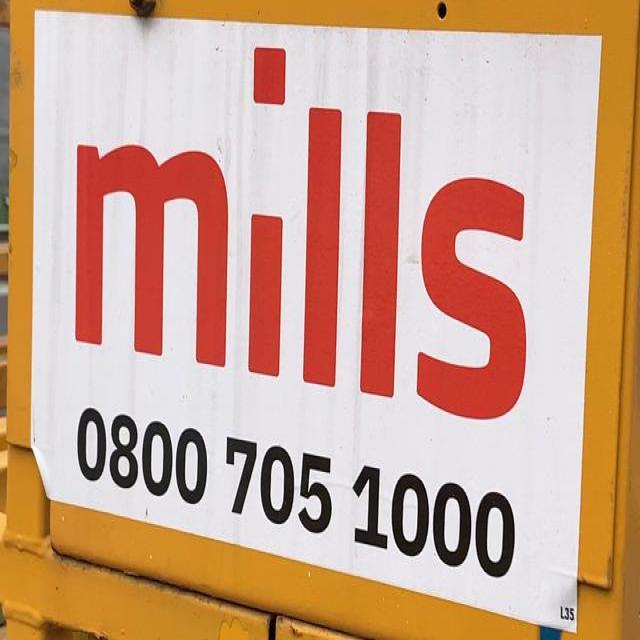Adesivos: (23, 0, 610, 640)
